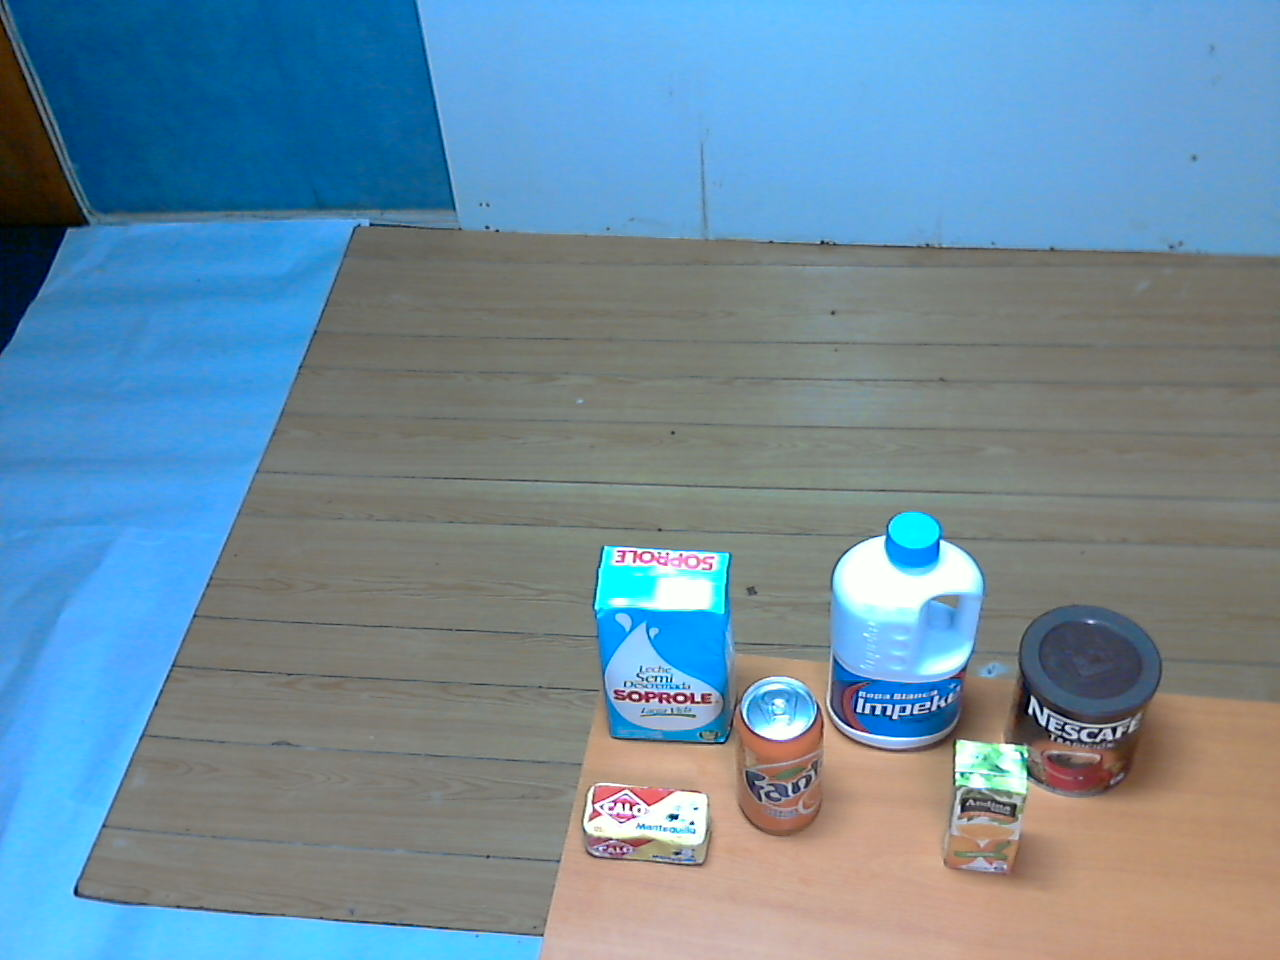cafe: (1007, 598, 1169, 807)
cloro: (821, 507, 989, 757)
jugoind: (937, 733, 1035, 892)
lata: (724, 673, 833, 848)
leche: (583, 538, 741, 753)
mantequilla: (579, 776, 717, 876)
